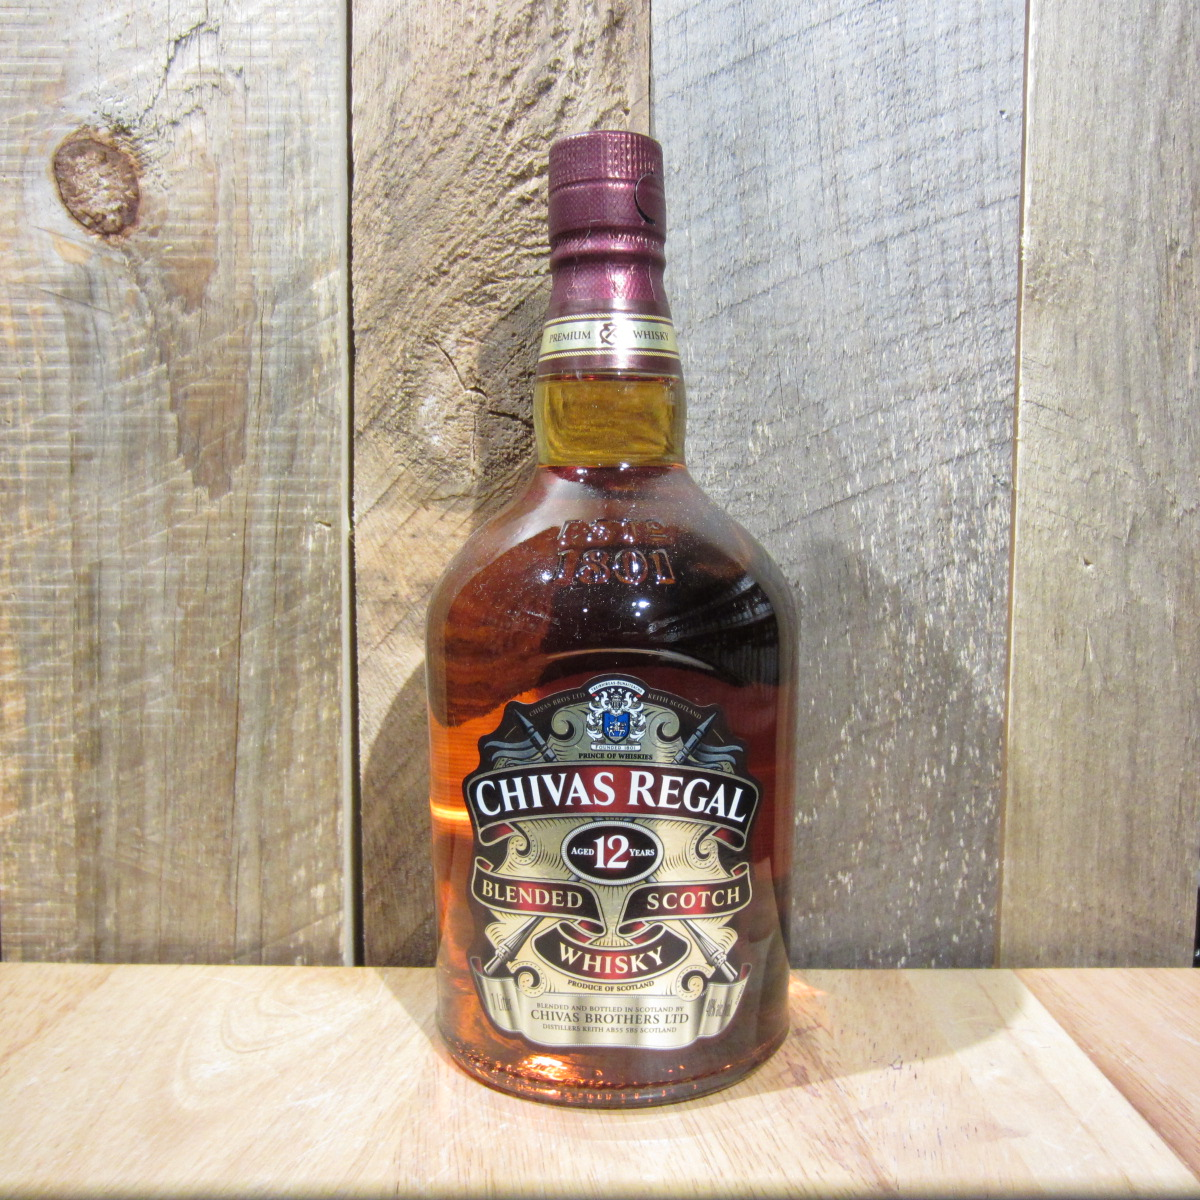Chivas Regal: (415, 122, 805, 1120)
